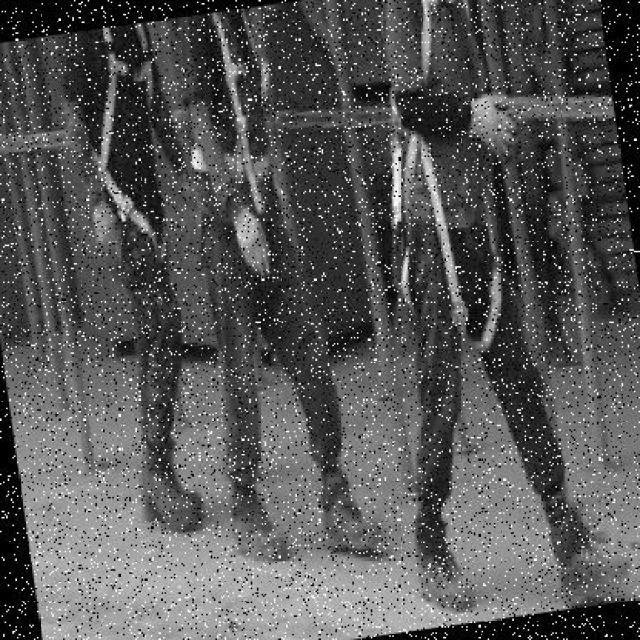Arnes_seguridad: (344, 0, 523, 358), (155, 6, 300, 305), (56, 21, 182, 281)
